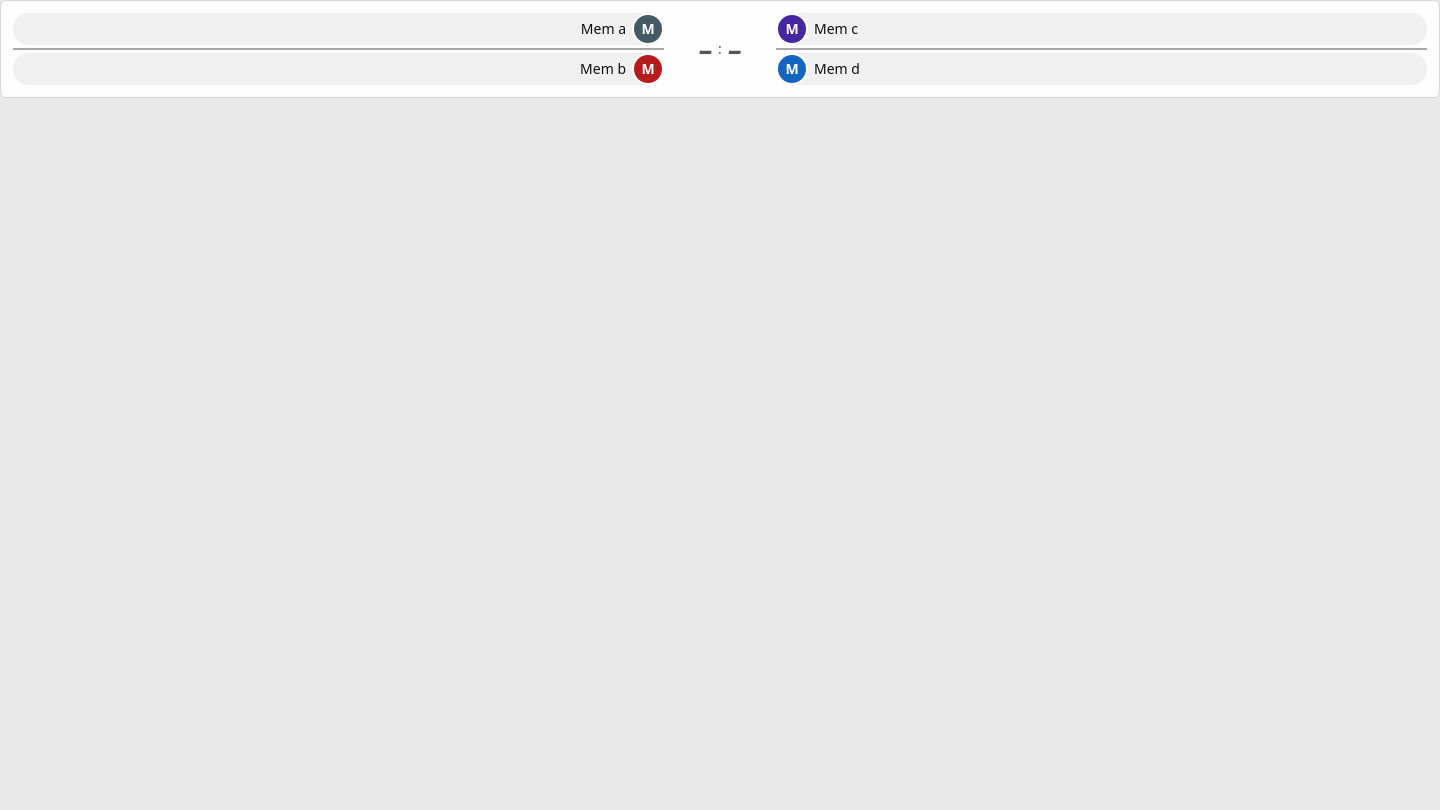
Test: MatchCard court style › có lineup và editable: popup có bốn ô chọn mem và nút Lưu kết quả
Click the button named "Nhập tỷ số trận 1".
click(720, 49)  # box [672,27,768,71]
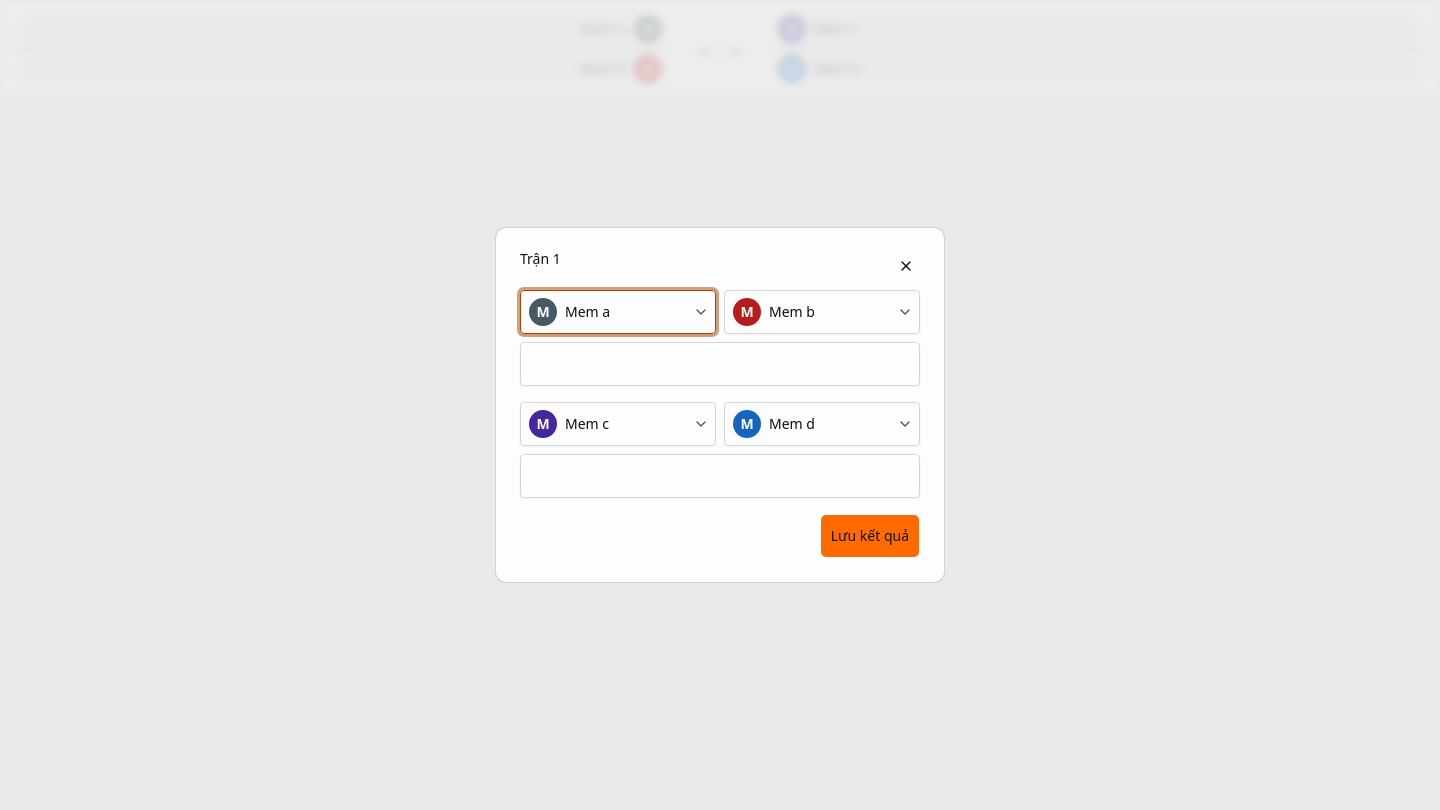
Result: the number of dropdowns is 4 at [520,290,716,334]; [724,290,920,334]; [520,402,716,446]; [724,402,920,446]
Result: the button "Lưu kết quả" is shown at [820,514,920,558]
